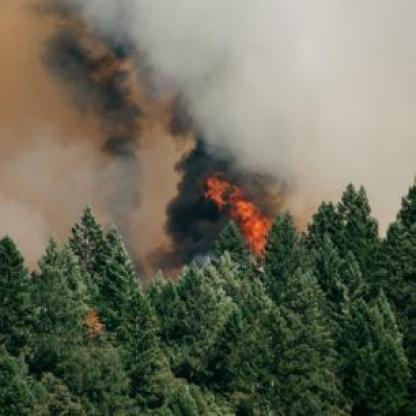fire: (204, 172, 271, 256)
smoke: (3, 3, 410, 252)
